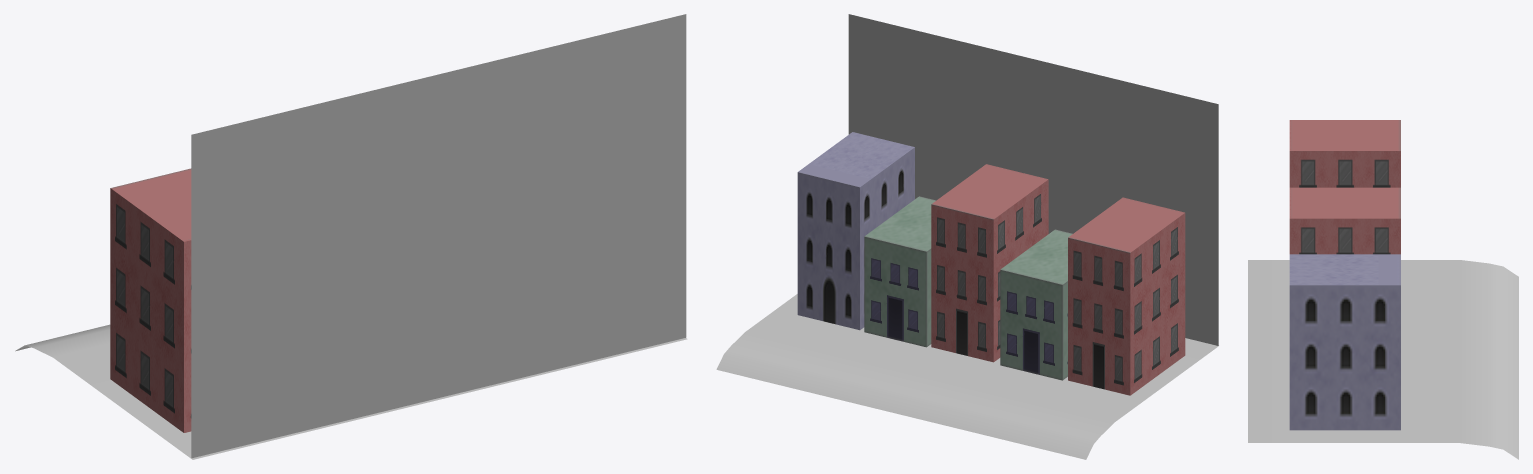
Rendered from modulo_um.fbx.
3 renders of one model, left to right at view 1: azimuth 30°, elevation 25°; view 2: azimuth 150°, elevation 25°; view 3: azimuth 270°, elevation 25°, orthographic. The views are drawn at different scales.
Parts seen in each view (by area): view 1: pasted__pasted__pPlane2, pasted__pasted__pasted__pCube4, pasted__pasted__pasted__pasted__pPlane2; view 2: pasted__pasted__pPlane2, pasted__pasted__pasted__pasted__pCube4 (×2), pasted__pasted__pasted__pasted__pPlane2, pasted__pasted__pasted__pCube4 (×2), pasted__pasted__pCube4; view 3: pasted__pasted__pasted__pasted__pPlane2, pasted__pasted__pasted__pasted__pCube4 (×2), pasted__pasted__pasted__pCube4.
Boxes of the visible parts, x1,y1,x2,y2 form: pasted__pasted__pPlane2: (191,14,686,458); pasted__pasted__pasted__pCube4: (110,168,191,432); pasted__pasted__pasted__pasted__pPlane2: (15,324,687,459); pasted__pasted__pPlane2: (848,14,1218,345); pasted__pasted__pasted__pasted__pCube4 (×2): (797,132,1048,362); pasted__pasted__pasted__pasted__pPlane2: (716,294,1218,459); pasted__pasted__pasted__pCube4 (×2): (864,196,1185,395); pasted__pasted__pCube4: (1000,229,1072,380); pasted__pasted__pasted__pasted__pPlane2: (1248,260,1518,459); pasted__pasted__pasted__pasted__pCube4 (×2): (1289,187,1400,430); pasted__pasted__pasted__pCube4: (1289,120,1400,187).
Bounding box in the file's own units: 160 × 107 × 100.
